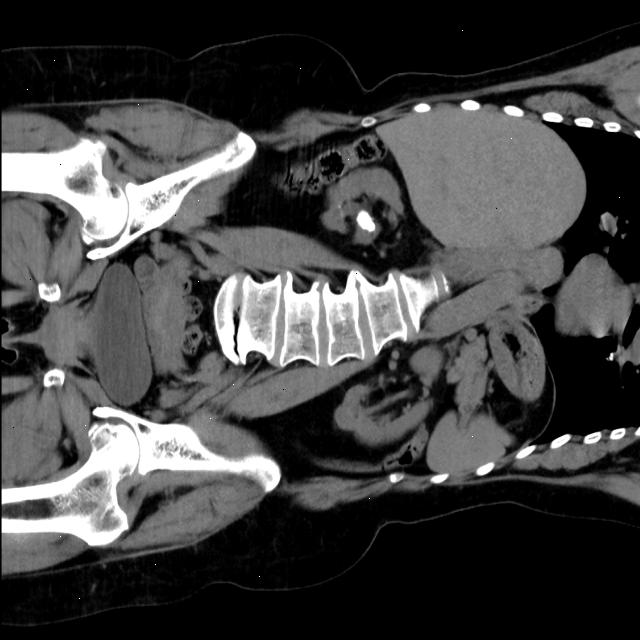kidneystone: (356, 211, 375, 233)
